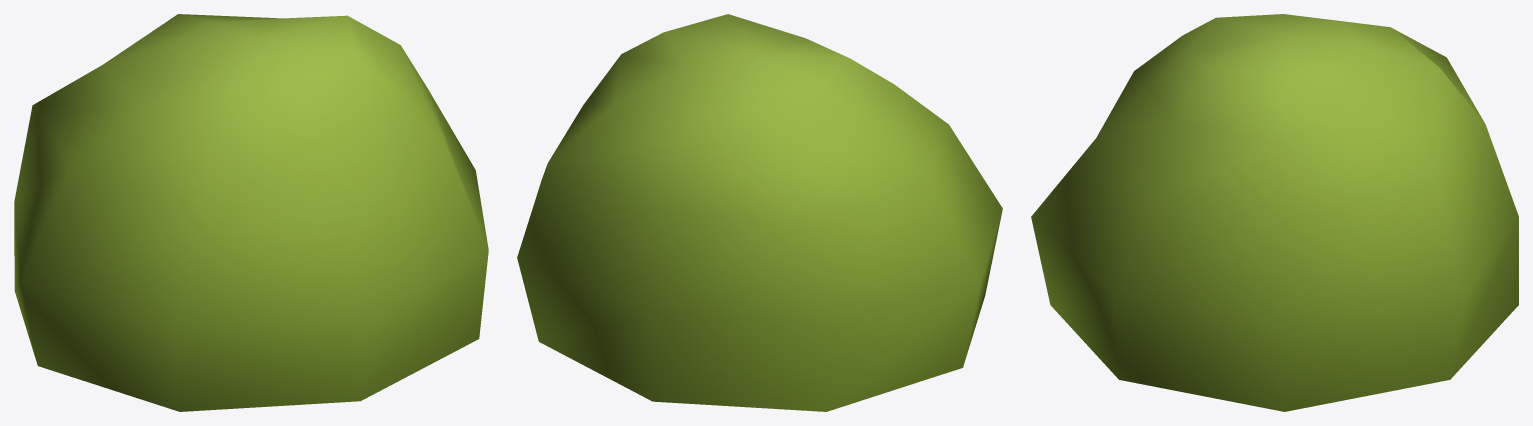
Rendered from Prop_Bush.fbx.
The picture shows the model from 3 angles, left to right: view 1: azimuth 30°, elevation 25°; view 2: azimuth 150°, elevation 25°; view 3: azimuth 270°, elevation 25°; orthographic projection. The views are drawn at different scales.
Visible parts, largest first — view 1: pSphere1; view 2: pSphere1; view 3: pSphere1.
Part boxes in pixels (bbox=[...]): pSphere1: bbox=[14, 14, 488, 411]; pSphere1: bbox=[517, 14, 1002, 411]; pSphere1: bbox=[1031, 14, 1518, 411].
Size of the model in its own units: 227 by 130 by 210.
